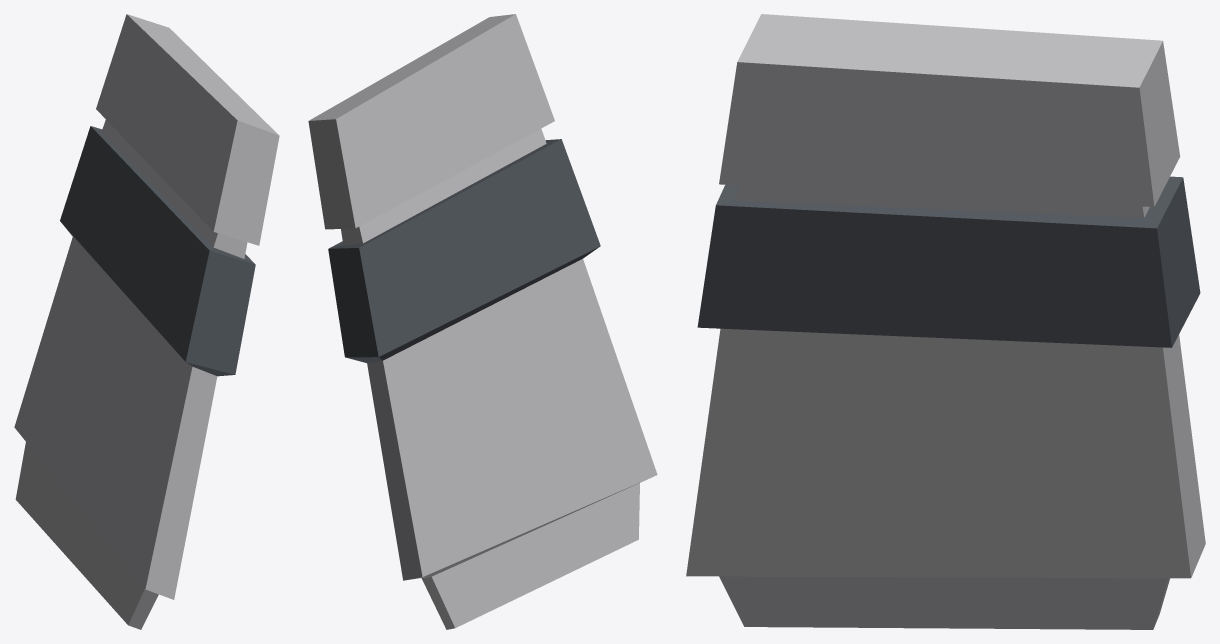
Rendered from Dropship_01_Flap_Left.fbx.
3 renders of one model, left to right at view 1: azimuth 30°, elevation 25°; view 2: azimuth 150°, elevation 25°; view 3: azimuth 270°, elevation 25°, orthographic. The views are drawn at different scales.
Parts seen in each view (by area): view 1: Dropship_01_Flap_Left; view 2: Dropship_01_Flap_Left; view 3: Dropship_01_Flap_Left.
Part boxes in pixels (box(x1,y1,x2,y2)): Dropship_01_Flap_Left: box(14, 14, 279, 629); Dropship_01_Flap_Left: box(308, 14, 657, 629); Dropship_01_Flap_Left: box(686, 14, 1205, 629).
Bounding box in the file's own units: 119 × 306 × 211.
1 material, 1 textured.
